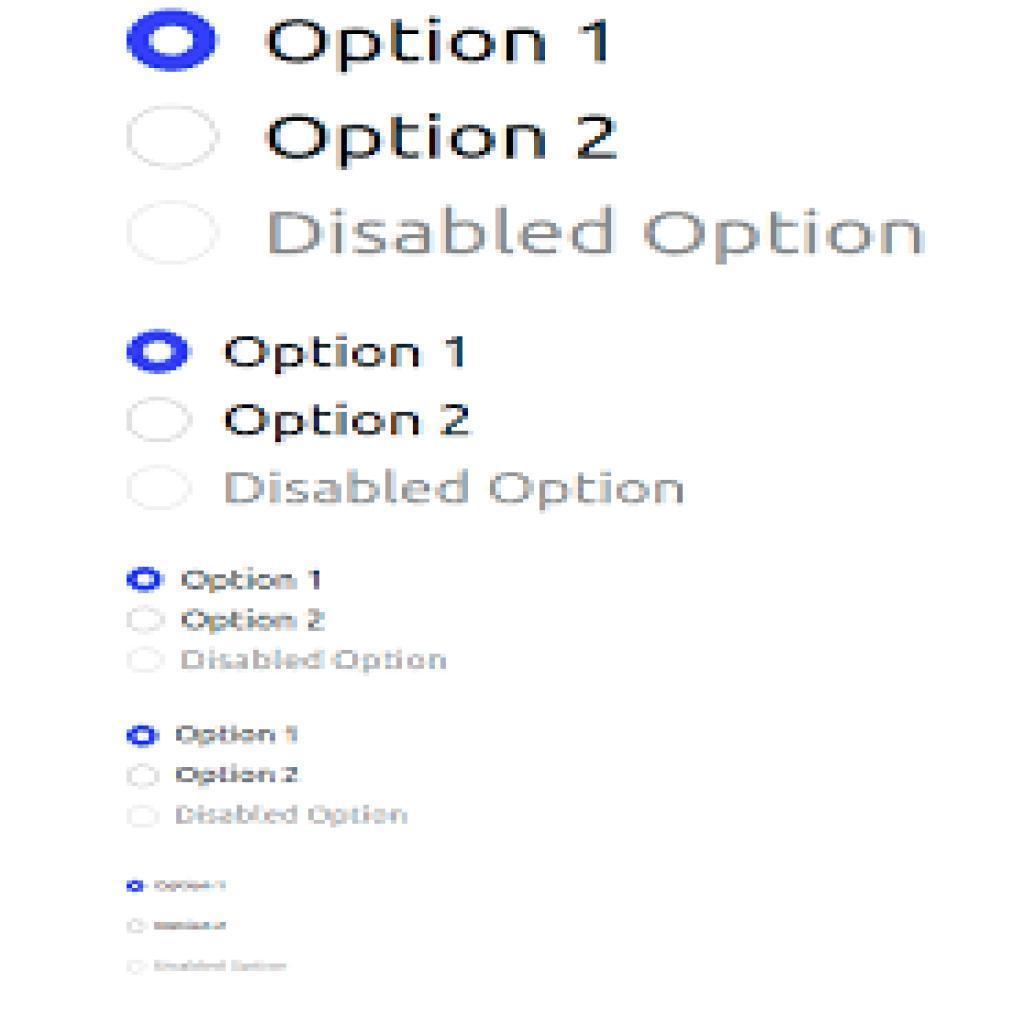label: (265, 197, 926, 271), (264, 102, 630, 175), (222, 463, 684, 513), (263, 8, 614, 72), (222, 393, 479, 439), (217, 334, 465, 370), (180, 645, 449, 676), (172, 799, 413, 832), (182, 603, 330, 634), (182, 565, 324, 596), (175, 718, 302, 749), (178, 759, 306, 787), (153, 956, 291, 976), (153, 873, 231, 901), (154, 918, 238, 934)
radio: (125, 103, 223, 176), (123, 8, 227, 76), (124, 201, 217, 267), (125, 460, 194, 517), (121, 324, 194, 376), (122, 395, 192, 447), (126, 643, 166, 676), (124, 566, 166, 595), (125, 606, 165, 634), (126, 722, 164, 751), (125, 762, 162, 791), (126, 803, 159, 833), (122, 952, 148, 981), (126, 915, 149, 938), (123, 878, 149, 896)
